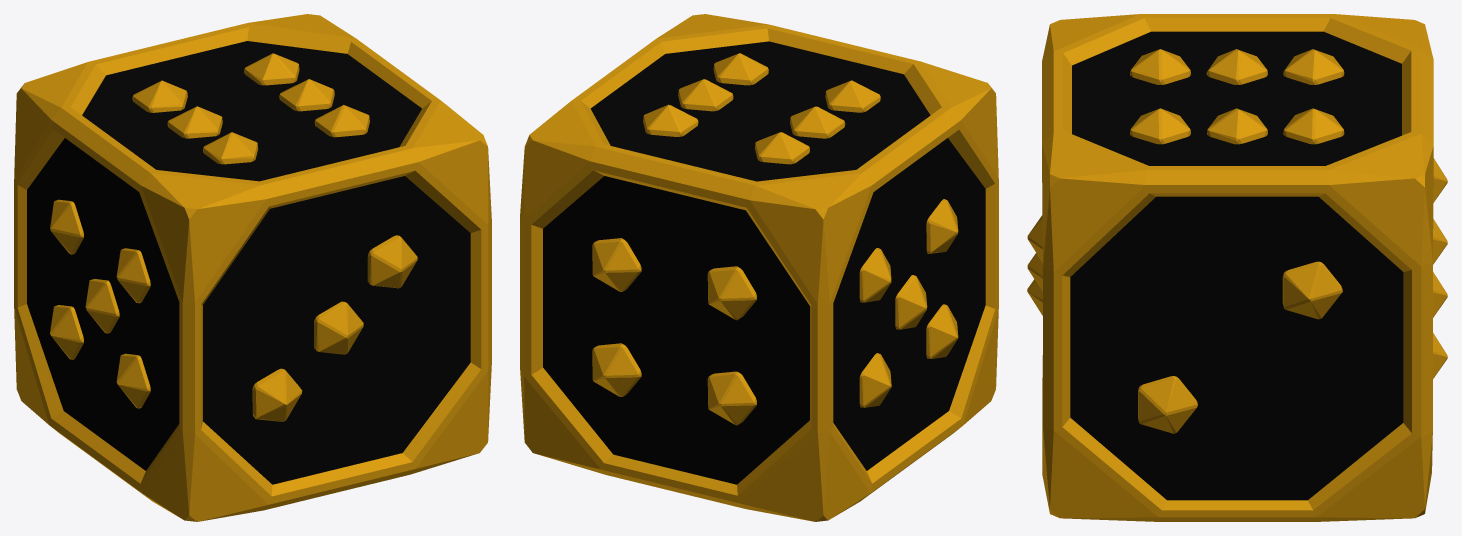
The picture shows the model from 3 angles, left to right: view 1: azimuth 30°, elevation 25°; view 2: azimuth 150°, elevation 25°; view 3: azimuth 270°, elevation 25°; orthographic projection. The views are drawn at different scales.
Parts seen in each view (by area): view 1: Cube.001, Cube; view 2: Cube.001, Cube; view 3: Cube.001, Cube.
Part boxes in pixels (box(x1,y1,x2,y2)): Cube.001: box(27, 41, 470, 484); Cube: box(14, 14, 491, 521); Cube.001: box(543, 41, 985, 484); Cube: box(520, 14, 998, 521); Cube.001: box(1070, 31, 1403, 500); Cube: box(1027, 14, 1447, 521).
Size of the model in its own units: 207 by 215 by 208.
